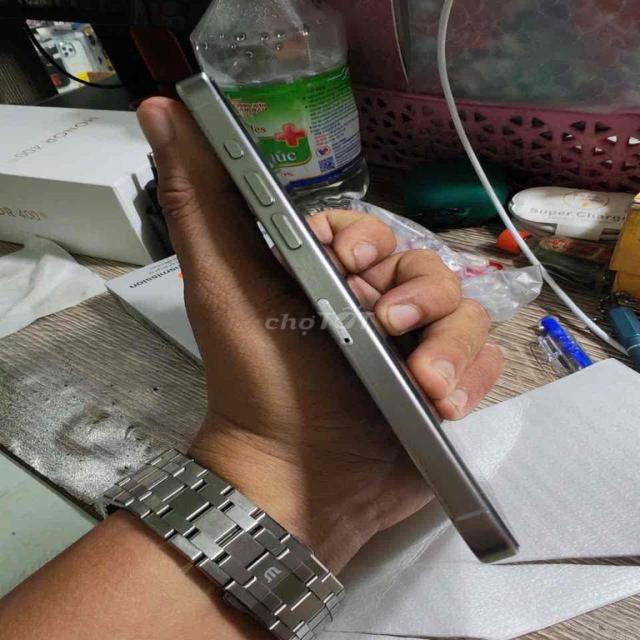gen_15: (160, 64, 544, 566)
